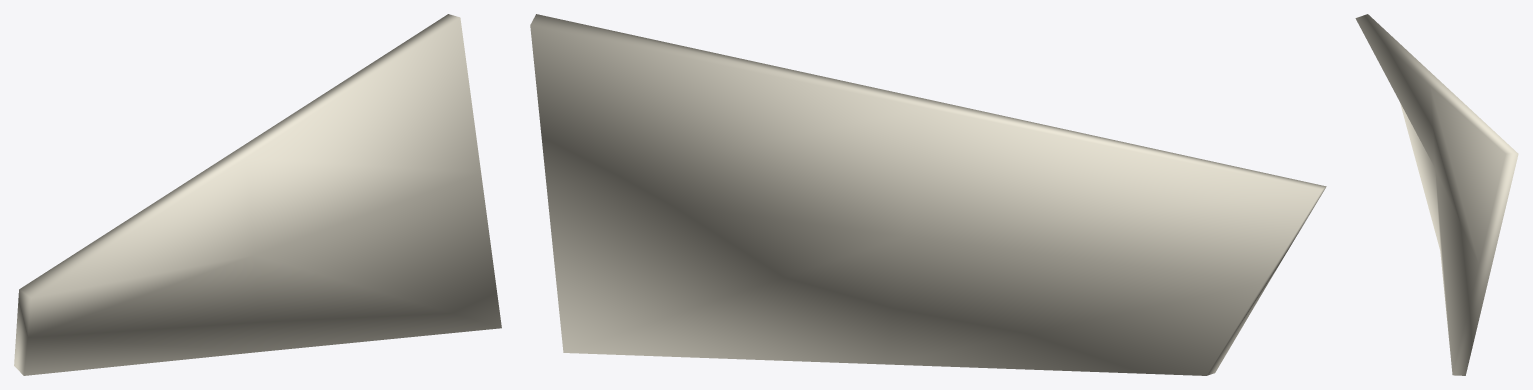
The picture shows the model from 3 angles, left to right: view 1: azimuth 30°, elevation 25°; view 2: azimuth 150°, elevation 25°; view 3: azimuth 270°, elevation 25°; orthographic projection. The views are drawn at different scales.
Visible parts, largest first — view 1: ZA_66a480b2e4fea2e3; view 2: ZA_66a480b2e4fea2e3; view 3: ZA_66a480b2e4fea2e3.
Part boxes in pixels (box(x1,y1,x2,y2)): ZA_66a480b2e4fea2e3: box(14, 14, 501, 375); ZA_66a480b2e4fea2e3: box(530, 14, 1326, 375); ZA_66a480b2e4fea2e3: box(1355, 14, 1518, 375).
Size of the model in its own units: 0.0177 by 0.00909 by 0.0061.
